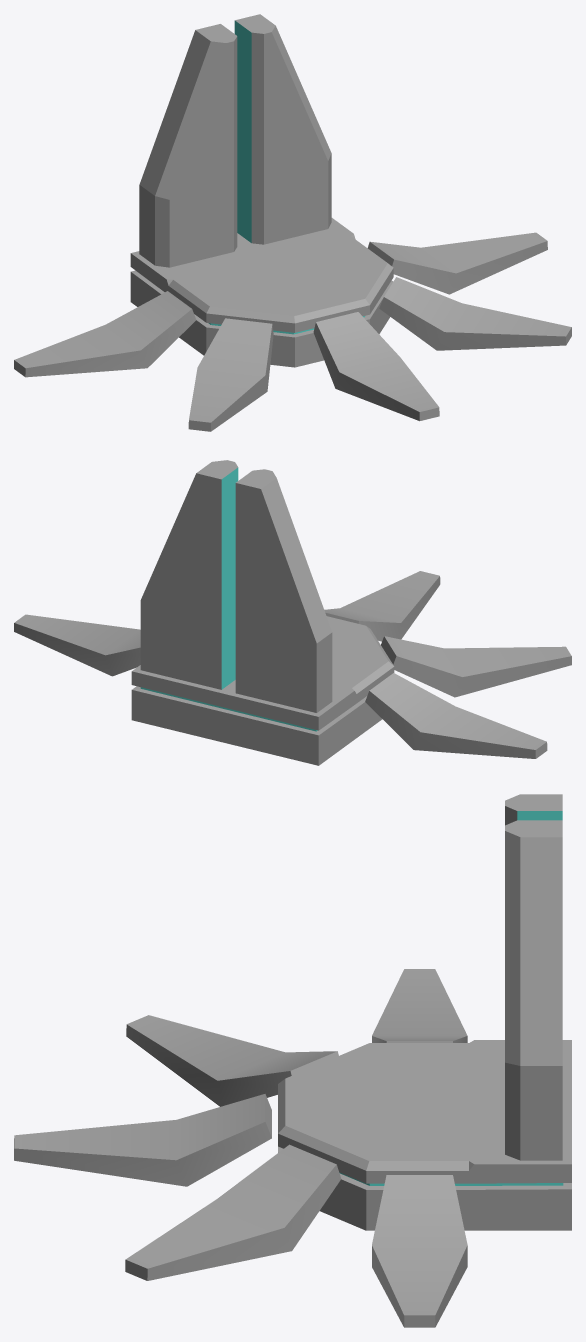
The model's file is Elevator.fbx.
The picture shows the model from 3 angles, top to bottom: view 1: azimuth 30°, elevation 25°; view 2: azimuth 150°, elevation 25°; view 3: azimuth 270°, elevation 25°; orthographic projection. The views are drawn at different scales.
Parts seen in each view (by area): view 1: polySurface1, pCube10, pCube14, pCube12, pCube11, pCube15, pCube13; view 2: polySurface1, pCube10, pCube14, pCube15, pCube13, pCube11; view 3: pCube10, polySurface1, pCube12, pCube11, pCube13, pCube15, pCube14.
Boxes of the visible parts, left/top/right/bottom form: polySurface1: left=139, top=14, right=331, bottom=267; pCube10: left=130, top=218, right=393, bottom=367; pCube14: left=14, top=291, right=196, bottom=377; pCube12: left=379, top=277, right=571, bottom=350; pCube11: left=313, top=312, right=439, bottom=421; pCube15: left=188, top=318, right=273, bottom=431; pCube13: left=367, top=232, right=547, bottom=294; polySurface1: left=140, top=460, right=332, bottom=712; pCube10: left=131, top=616, right=394, bottom=765; pCube14: left=365, top=673, right=547, bottom=758; pCube15: left=381, top=636, right=571, bottom=697; pCube13: left=14, top=614, right=140, bottom=676; pCube11: left=324, top=571, right=440, bottom=641; pCube10: left=278, top=1040, right=571, bottom=1230; polySurface1: left=505, top=794, right=562, bottom=1160; pCube12: left=125, top=1144, right=341, bottom=1280; pCube11: left=14, top=1094, right=271, bottom=1186; pCube13: left=372, top=1175, right=467, bottom=1327; pCube15: left=126, top=1015, right=338, bottom=1106; pCube14: left=372, top=969, right=467, bottom=1042.
Size of the model in its own units: 1116 by 530 by 759.
